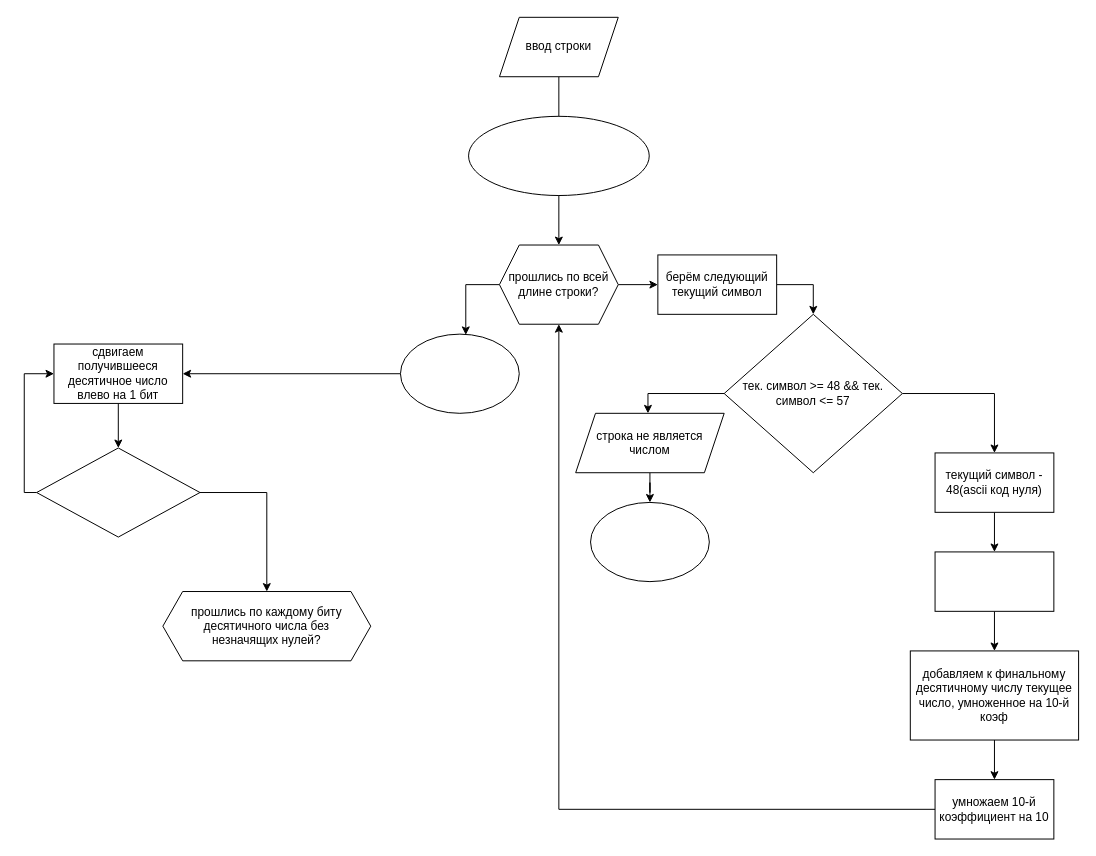
Some shapes in this 1096 by 856 pixel diagram are drawn without their labels. The centre of each missing label's shape, as x and y in pixels:
"завершение программы" goes at pixel 649 541.
"конец цикла" goes at pixel 459 373.
"начало подпрограммы перевода из строки 10 цифр в строку 2-х цифр" goes at pixel 558 155.
"сдвинутый бит -- 0?" goes at pixel 118 492.
"умножаем число на десятичный коэффициент" goes at pixel 994 581.
